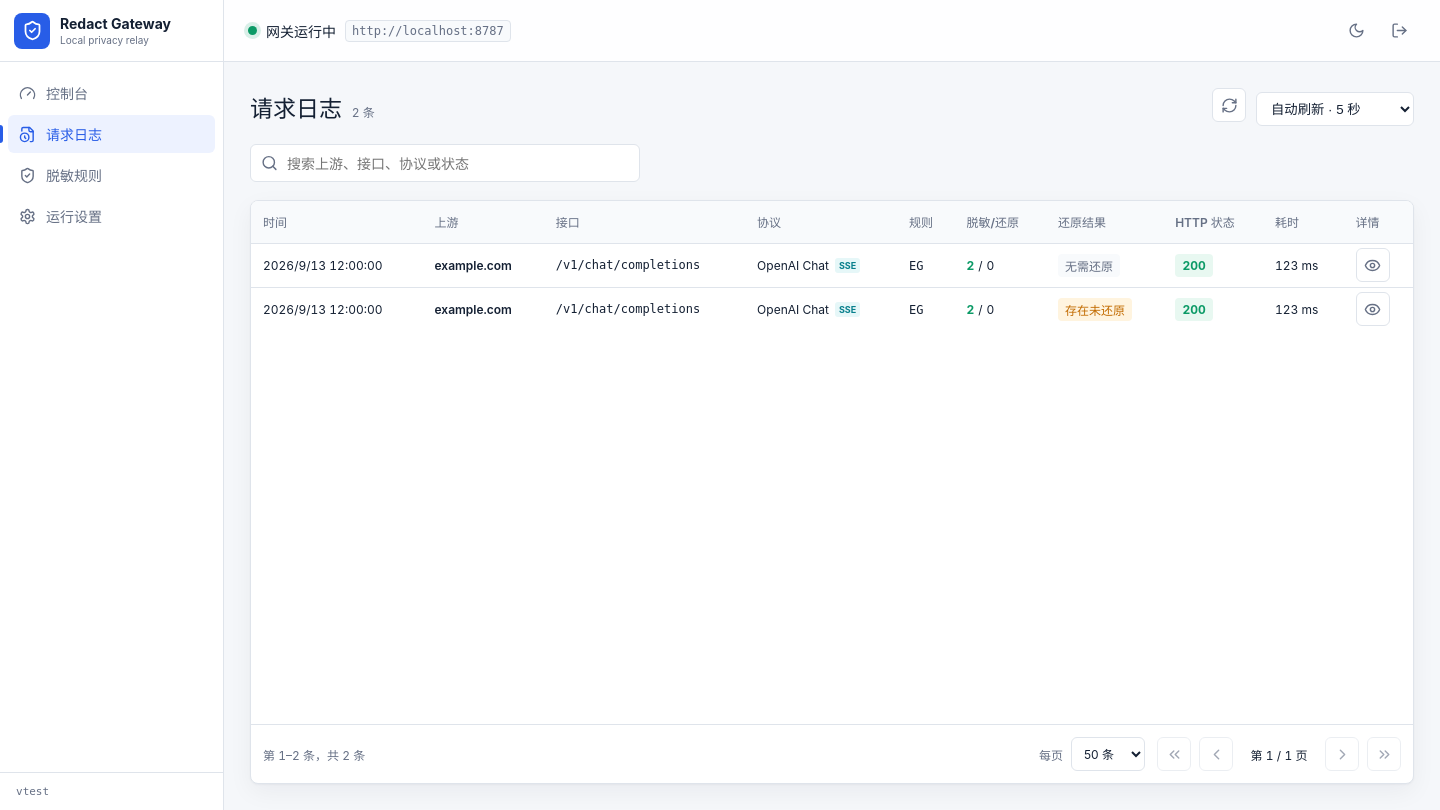
Test: App › distinguishes zero restorations from unresolved placeholders
Check: the text "无需还原" is shown, box [1058,254,1120,276]
Check: the text "存在未还原" is shown, box [1058,298,1132,321]
Click the button named "查看请求 unresolved 的详情" at [1373, 309], box [1356,292,1390,326]
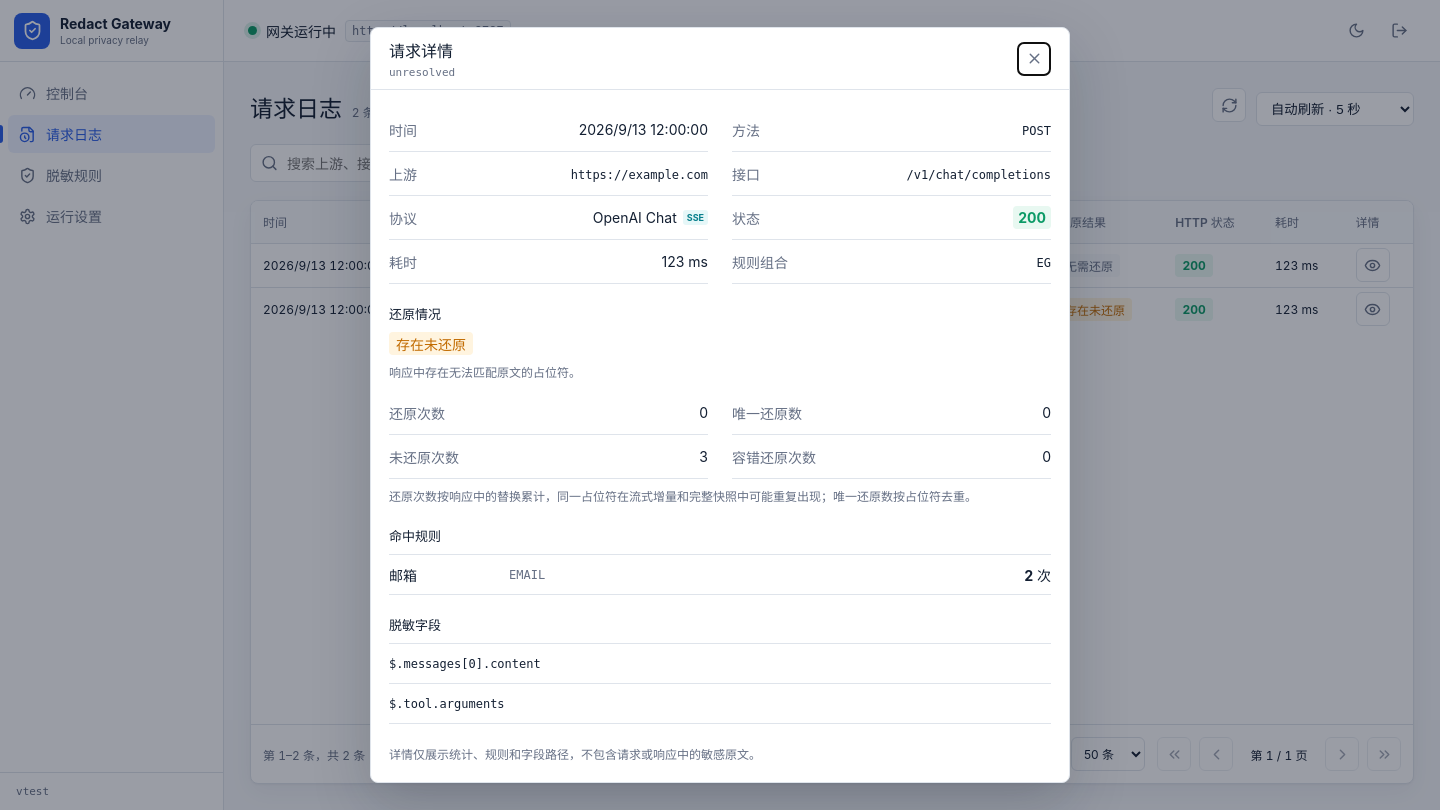
Check: the text "响应中存在无法匹配原文的占位符。" is shown, box [389,365,581,380]
Check: the text "3" is shown, box [699,448,708,465]
